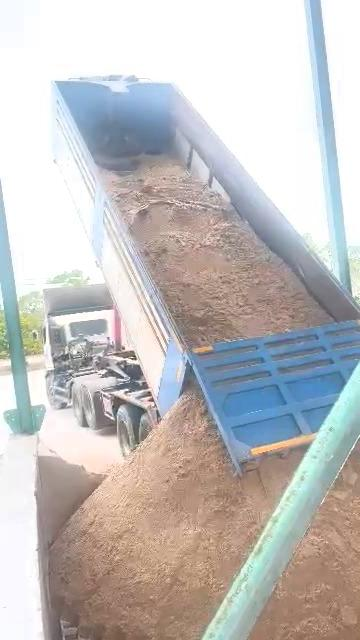sand: (51, 384, 302, 639), (112, 160, 329, 346), (250, 440, 360, 639), (41, 444, 113, 540)
